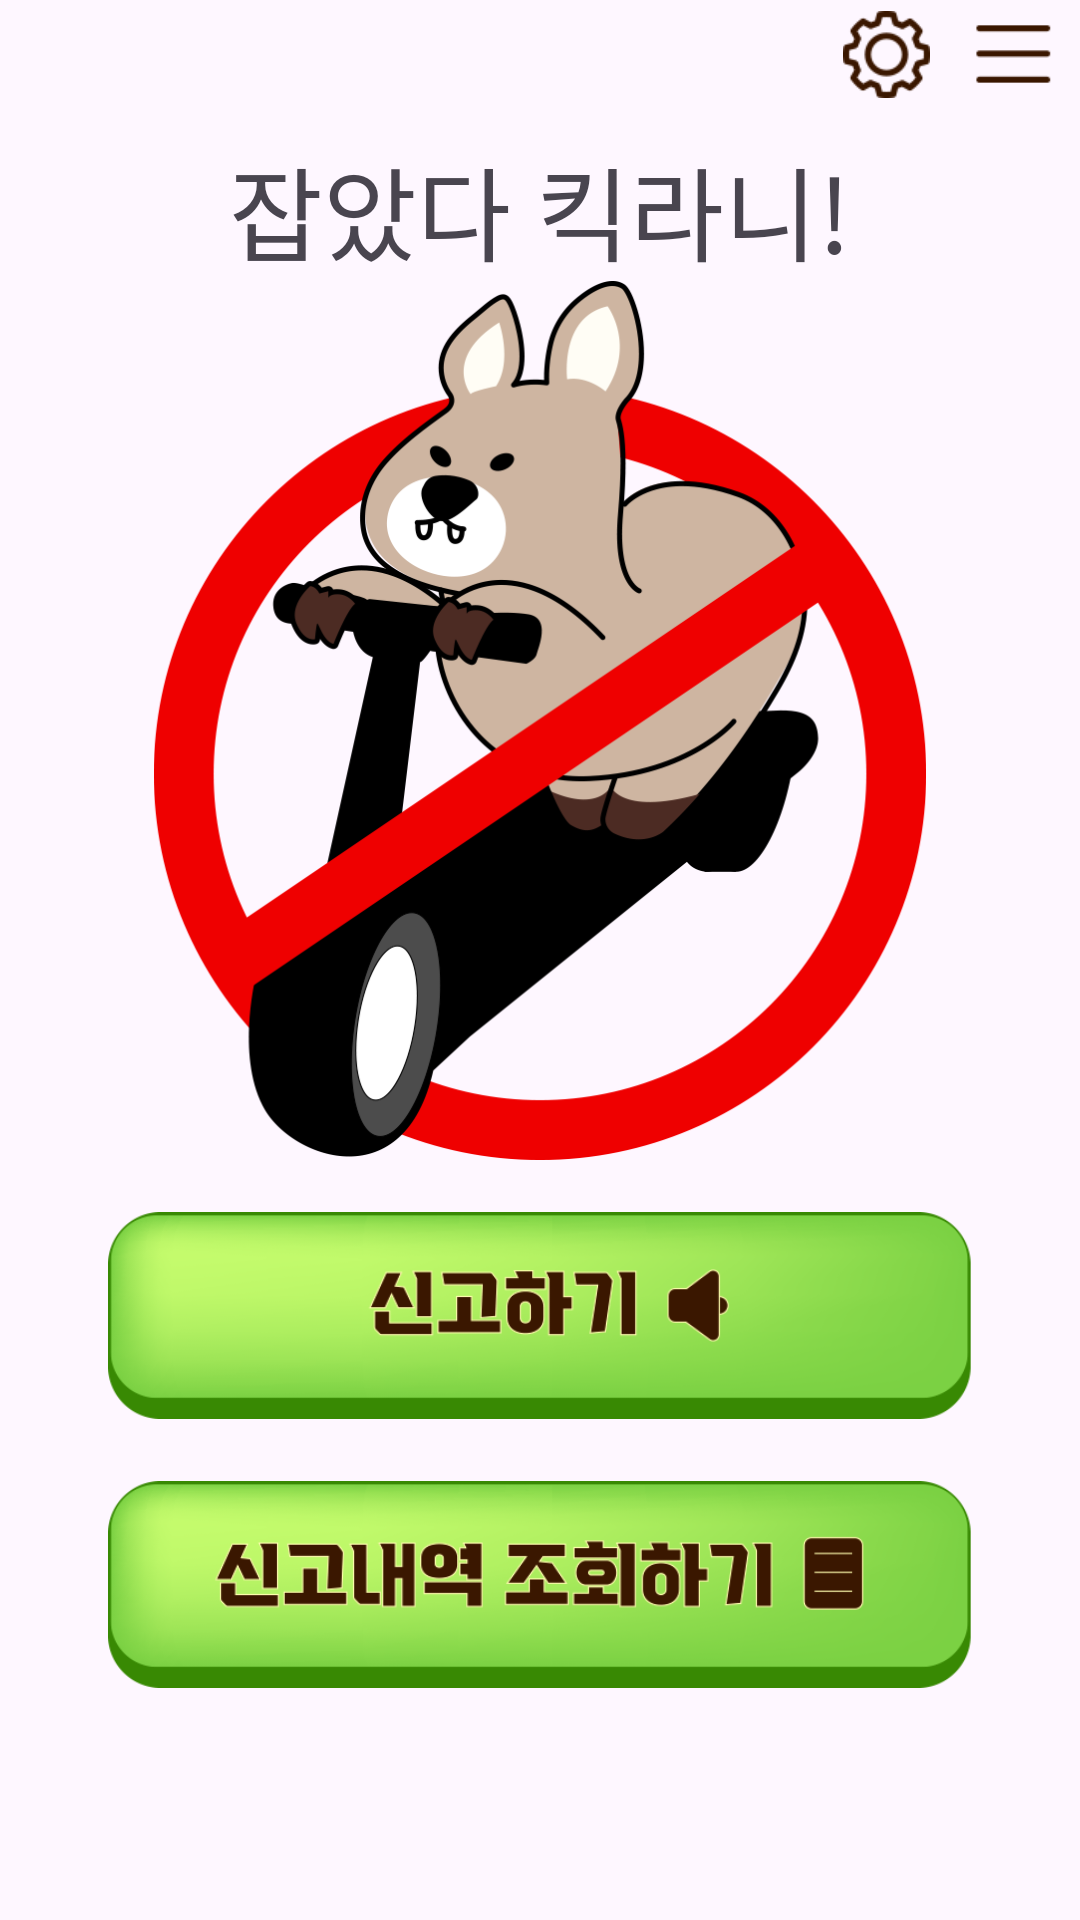

Icons on this 1080x1920 Android screen, each with the point to tap as (x=x, y=y):
more: (x=1013, y=54)
option: (x=886, y=54)
